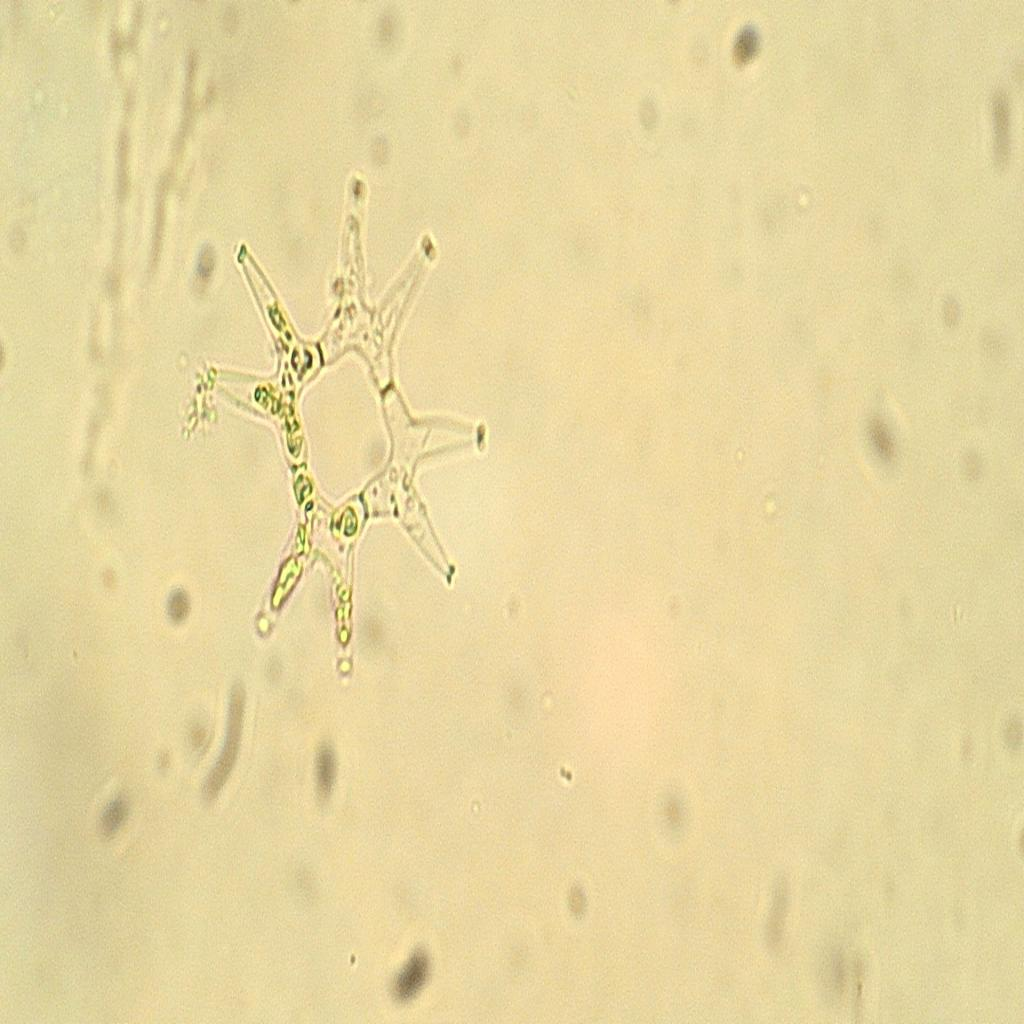Pediastrum_1F0: (174, 147, 506, 697)
